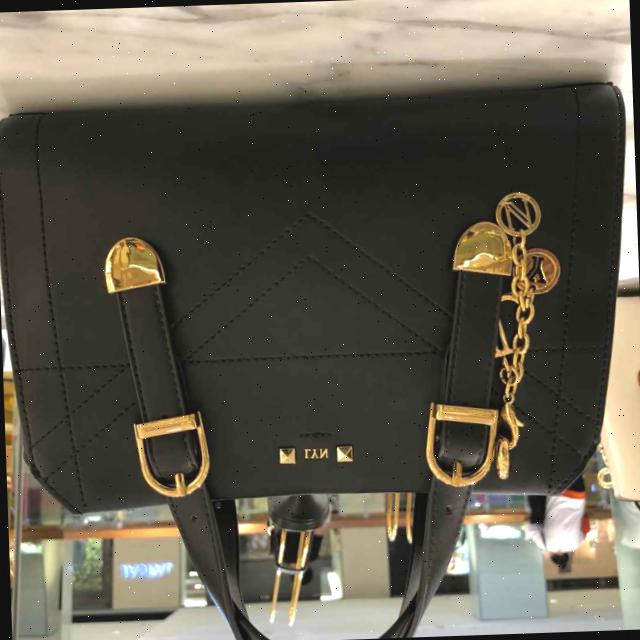Handbag: (0, 76, 625, 545)
